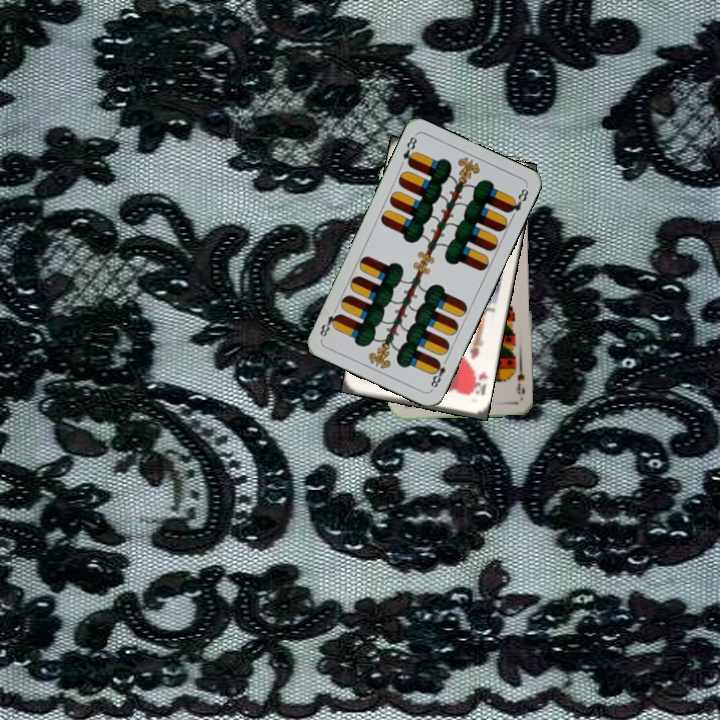E8: (426, 354, 451, 392), (398, 131, 420, 169)
HK: (466, 365, 490, 399)
S9: (512, 359, 528, 397)
